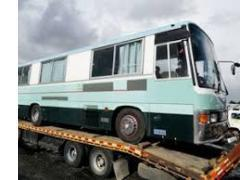bus: (18, 22, 230, 145)
